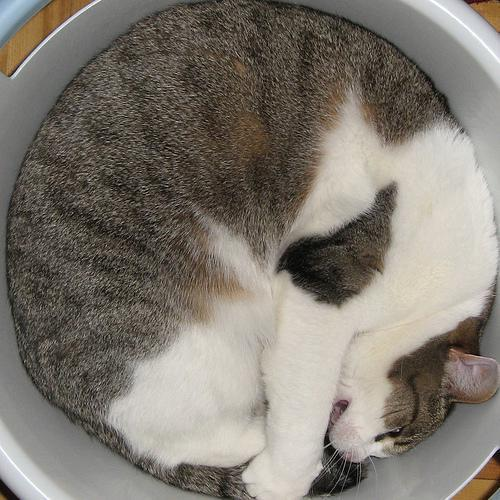Lavamanos: (0, 0, 499, 499)
Otro Obstaculo: (9, 20, 493, 478)
